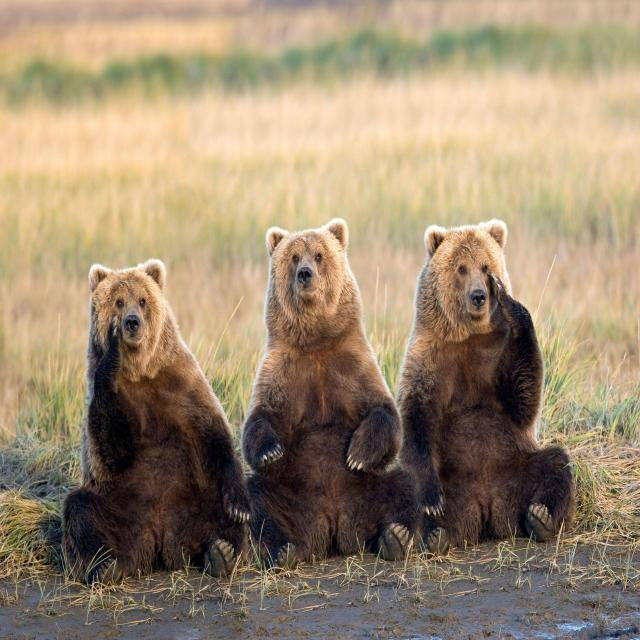Bear: (240, 219, 420, 563), (62, 259, 249, 577), (396, 220, 576, 546)
